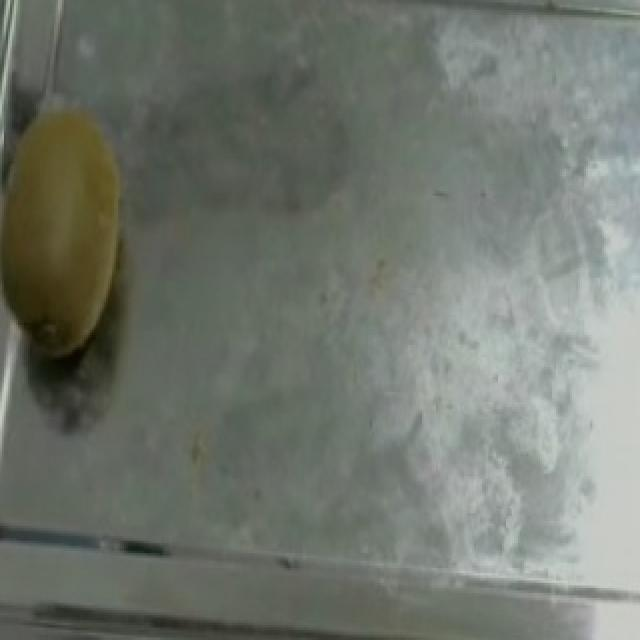Fruit: (0, 82, 152, 379)
